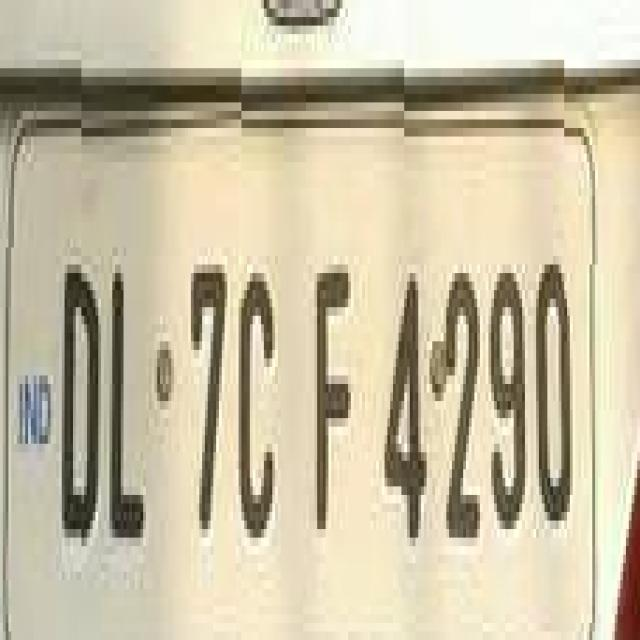plate: (5, 59, 606, 640)
